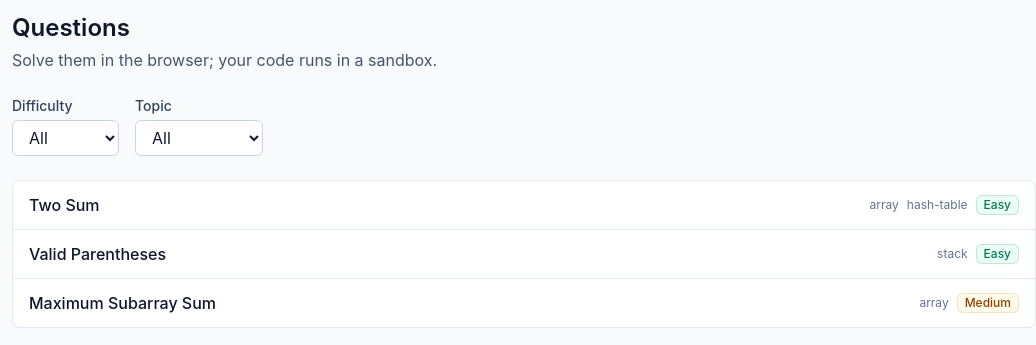
QuestionsPage › says so when a filter combination matches nothing
expect the link "Two Sum array hash-table Easy" is shown: met, box [29,195,1019,215]
Select "Hard" in the dropdown labelled "Difficulty" at (66, 138), box [12,120,119,156]
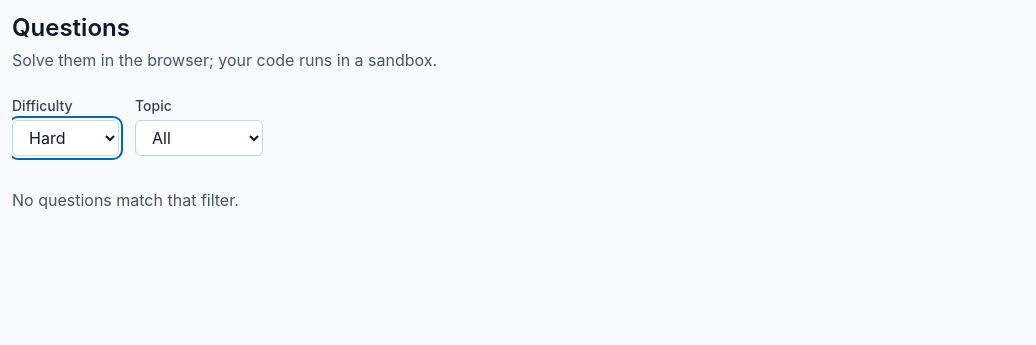
expect the text "No questions match that filter." is shown: met, box [12,190,239,210]
